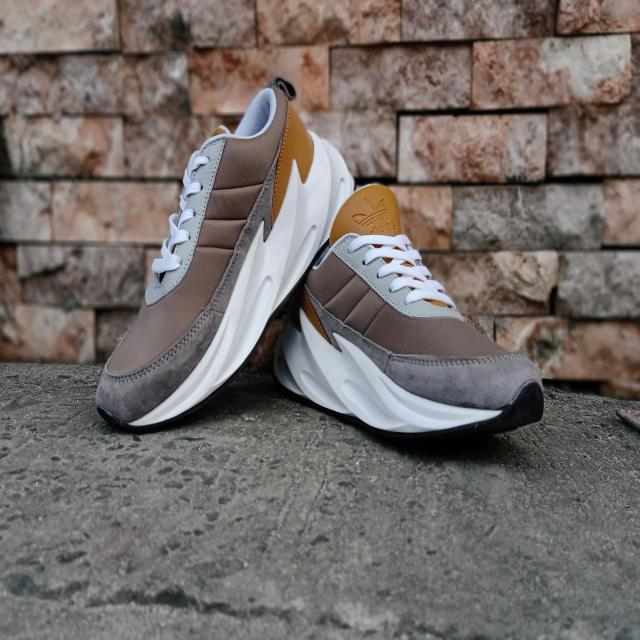shoe: (90, 81, 360, 448), (260, 173, 551, 465)
